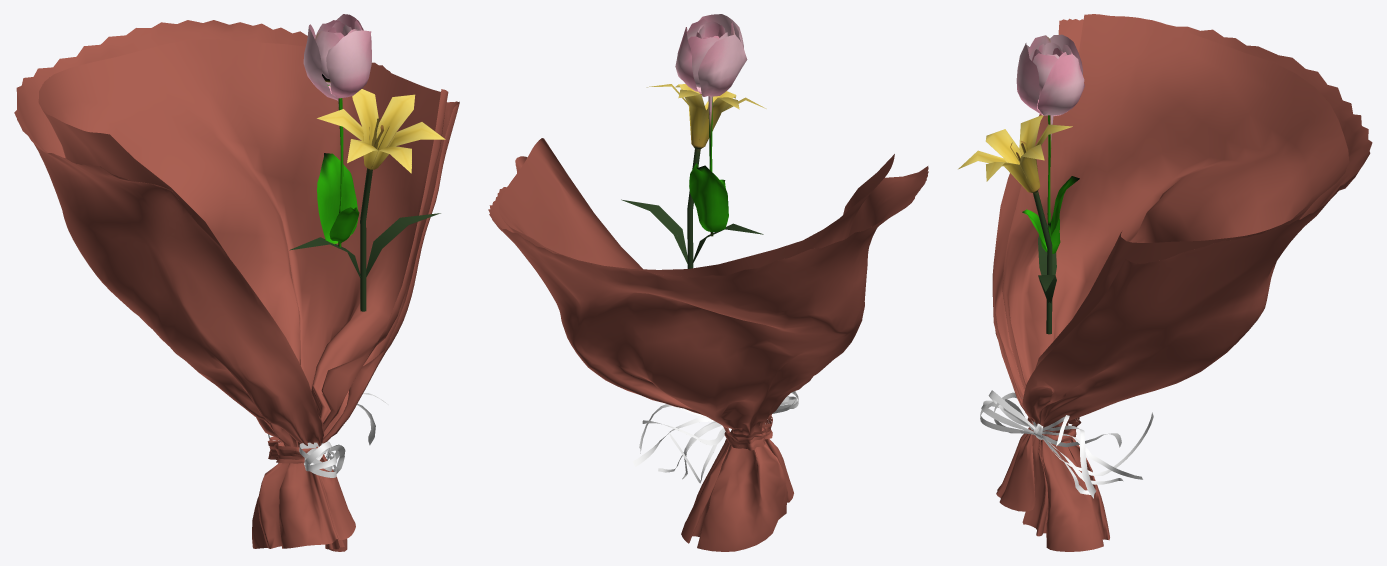
3 renders of one model, left to right at view 1: azimuth 30°, elevation 25°; view 2: azimuth 150°, elevation 25°; view 3: azimuth 270°, elevation 25°, orthographic. The views are drawn at different scales.
Parts seen in each view (by area): view 1: inner, outer, Geometry, SM_Lilly1, ribbon, parcel_knot; view 2: outer, inner, Geometry, SM_Lilly1, ribbon, parcel_knot; view 3: inner, outer, Geometry, SM_Lilly1, ribbon.
Boxes of the visible parts, x1,y1,x2,y2 form: inner: [38, 39, 448, 447]; outer: [14, 20, 459, 551]; Geometry: [303, 14, 371, 247]; SM_Lilly1: [289, 89, 445, 311]; ribbon: [268, 393, 388, 477]; parcel_knot: [267, 437, 317, 463]; outer: [488, 156, 928, 551]; inner: [499, 138, 894, 277]; Geometry: [675, 14, 747, 236]; SM_Lilly1: [621, 84, 766, 268]; ribbon: [632, 391, 798, 483]; parcel_knot: [722, 414, 772, 450]; inner: [1002, 14, 1349, 391]; outer: [992, 18, 1372, 551]; Geometry: [1016, 34, 1084, 253]; SM_Lilly1: [958, 115, 1072, 334]; ribbon: [980, 390, 1153, 498].
Bounding box in the file's own units: 1.81 × 2.2 × 1.64.
7 materials, 2 textured.
